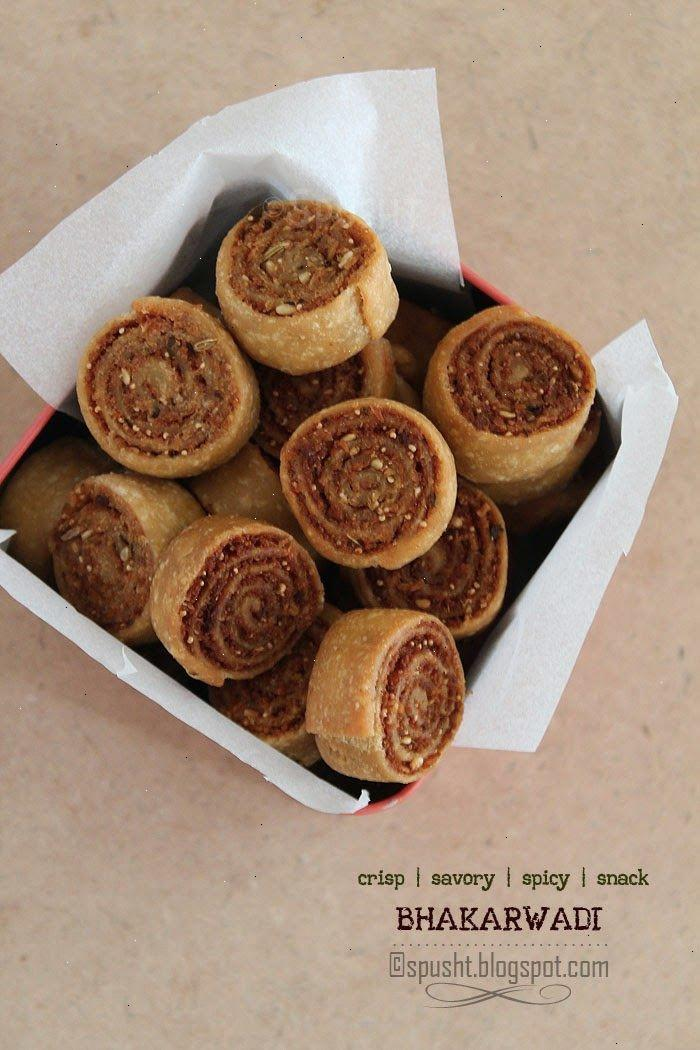bhakarwadi: (46, 186, 590, 785)
